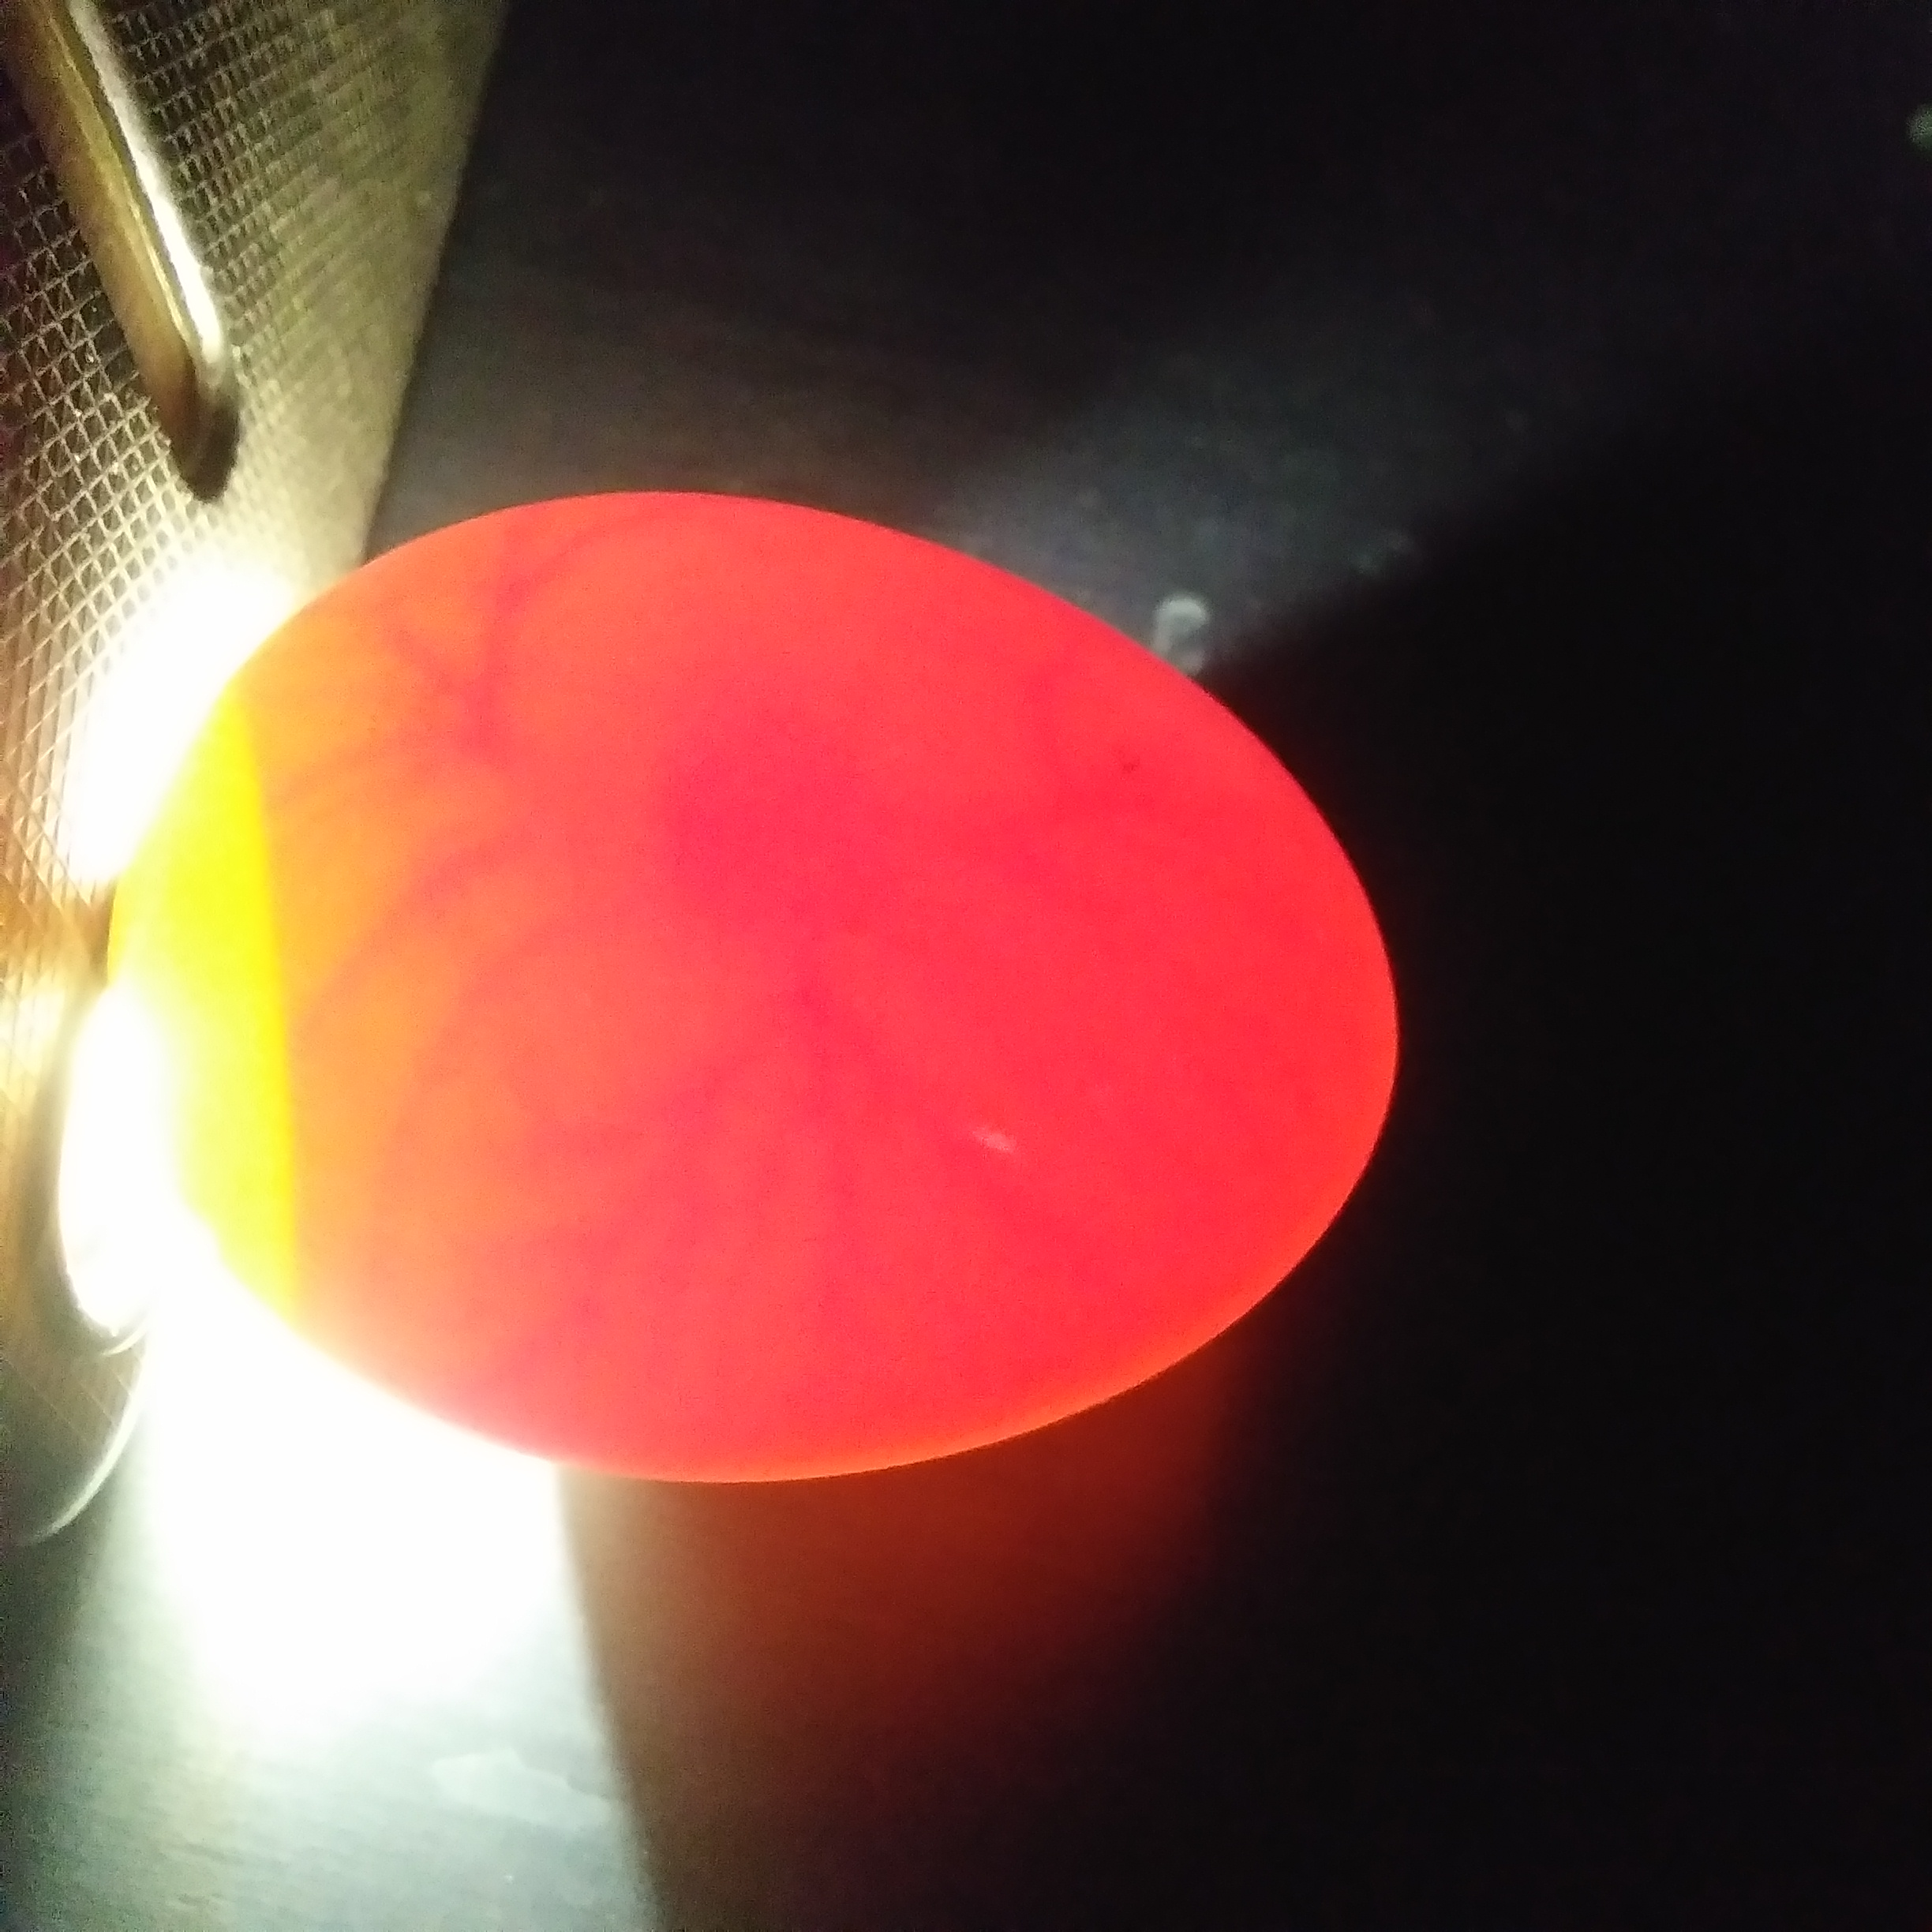bloodcell: (308, 603, 564, 1272)
